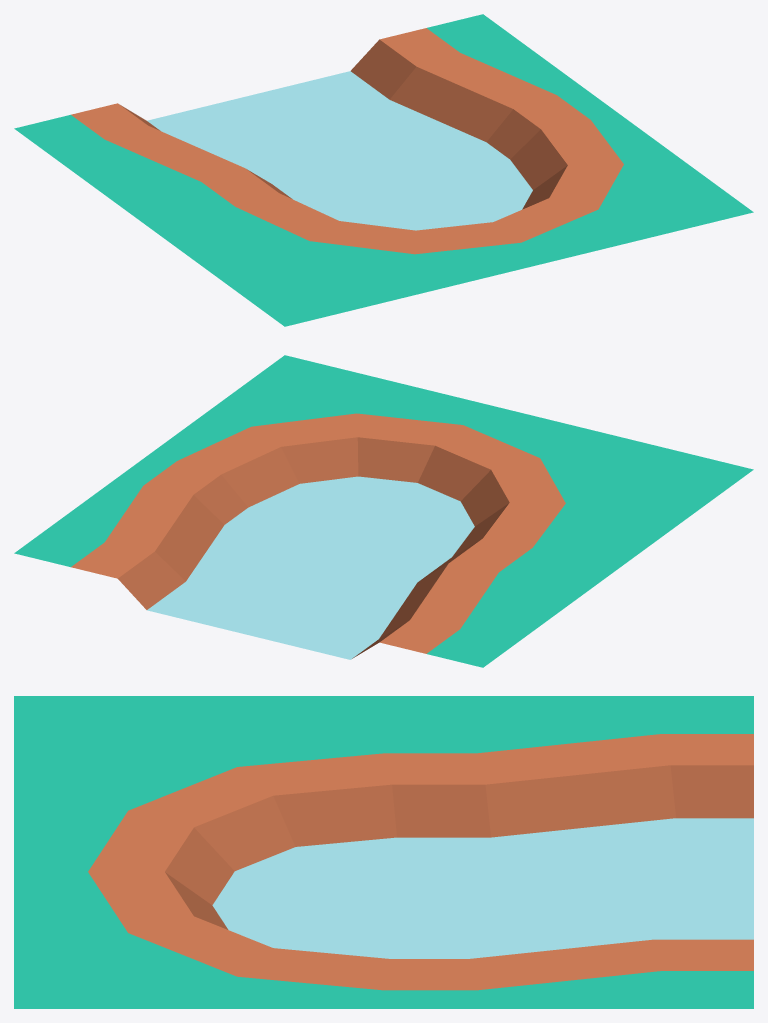
The model's file is ground_riverEndClosed.obj.
3 renders of one model, top to bottom at view 1: azimuth 30°, elevation 25°; view 2: azimuth 150°, elevation 25°; view 3: azimuth 270°, elevation 25°, orthographic. The views are drawn at different scales.
Parts seen in each view (by area): view 1: ground_riverEndClosed; view 2: ground_riverEndClosed; view 3: ground_riverEndClosed.
Boxes of the visible parts, x1,y1,x2,y2 form: ground_riverEndClosed: (14, 14, 753, 326); ground_riverEndClosed: (14, 355, 753, 667); ground_riverEndClosed: (14, 696, 753, 1008).
Bounding box in the file's own units: 1 × 0.05 × 1.
